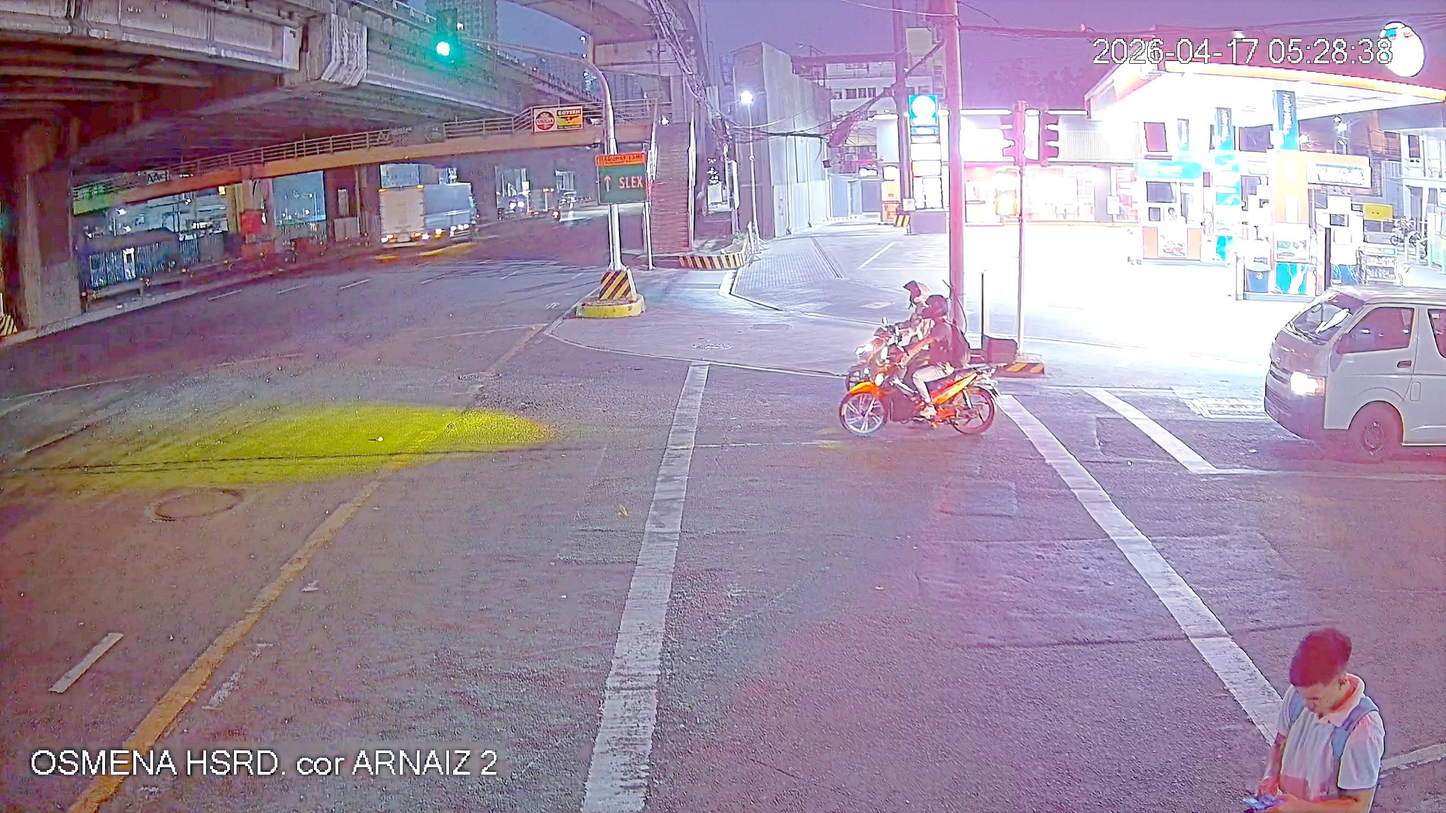Car: (1263, 283, 1446, 458)
Motor: (847, 362, 1000, 449), (849, 319, 927, 386)
Not Accident: (849, 304, 1001, 448)
